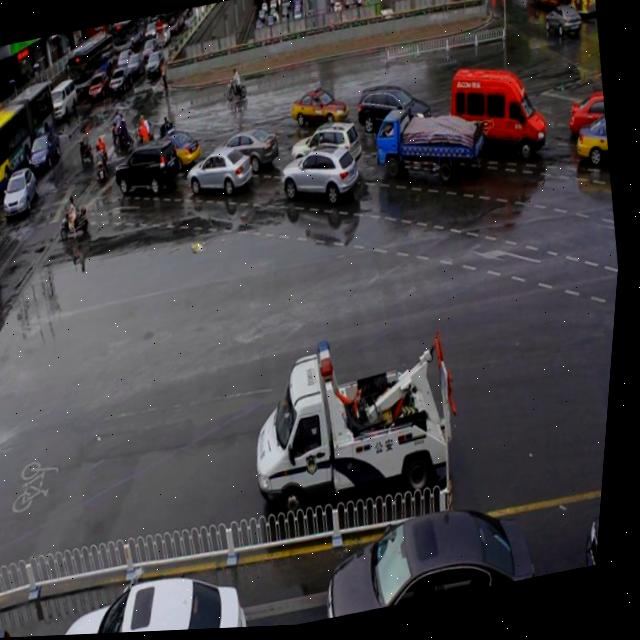bus: (243, 315, 483, 534), (372, 96, 492, 197)
car: (328, 502, 549, 622), (51, 560, 260, 637), (279, 139, 368, 215), (355, 79, 436, 147), (112, 136, 188, 200), (290, 122, 366, 179), (212, 124, 284, 183), (184, 147, 259, 203), (291, 85, 352, 134), (148, 127, 207, 176), (575, 119, 616, 176), (567, 94, 612, 145), (587, 502, 609, 572)
truck: (440, 56, 556, 174)
